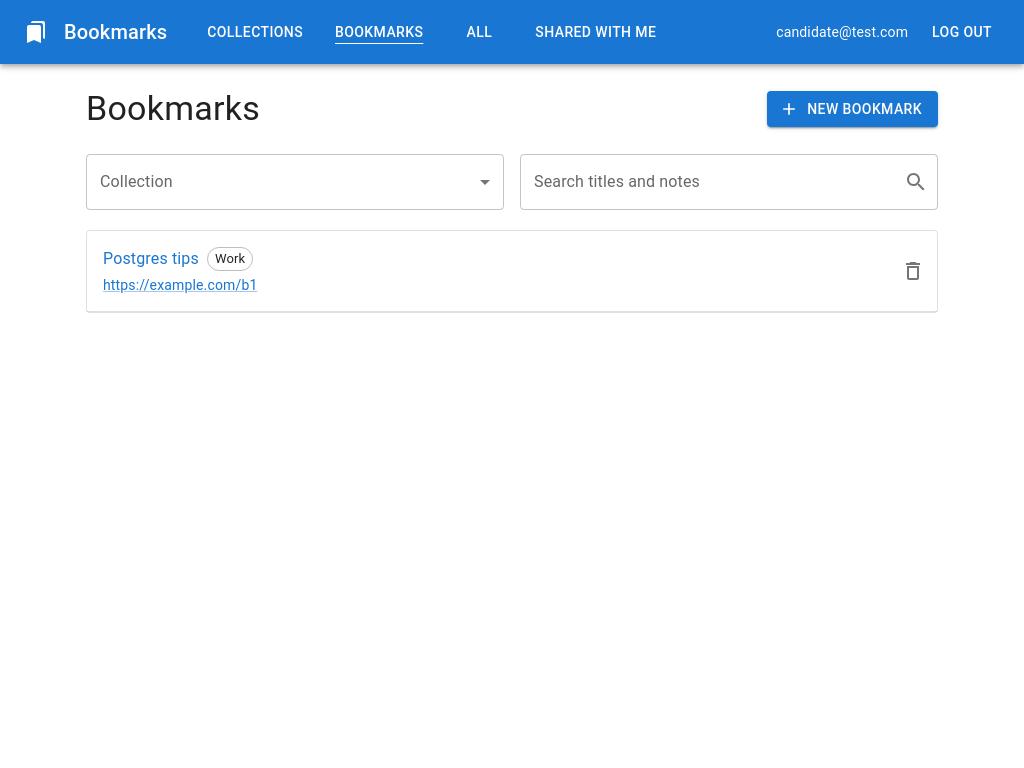
Scenario: /bookmarks › shows API field errors on the form (e.g. unsafe URL rejected by the API)
This screenshot has width=1024, height=768.
Click the button "New bookmark" at (853, 109), box [767,91,938,127]
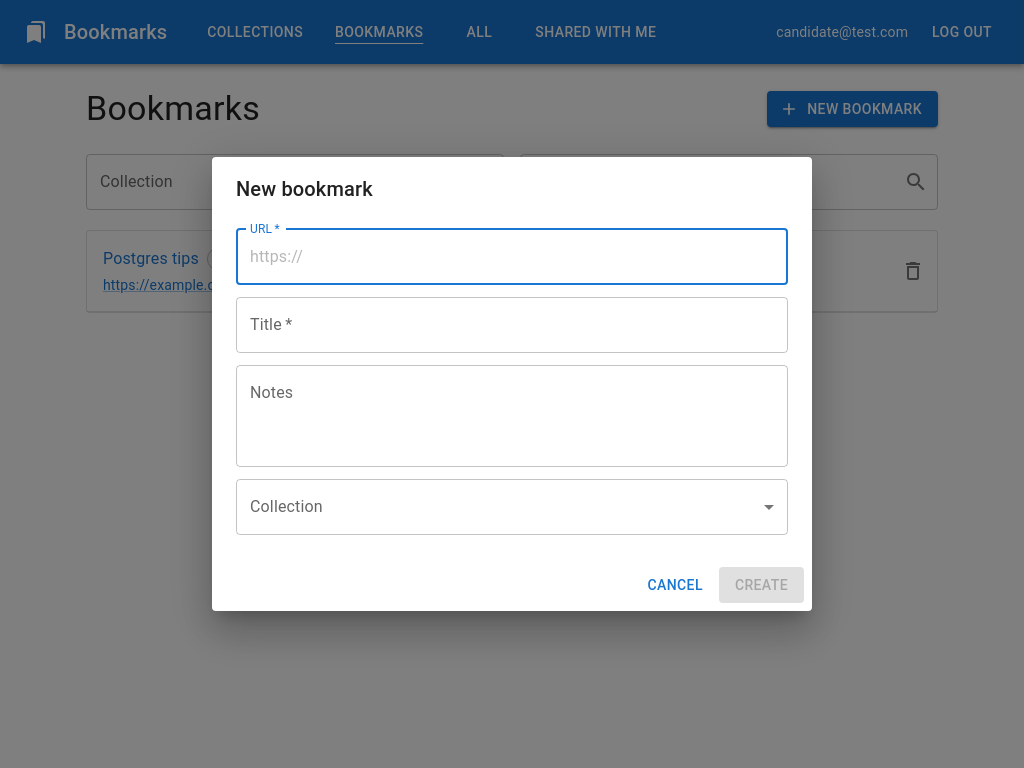
Type "javascript:alert(1)" into the field labelled "URL *" at (512, 257), box [236,229,788,285]
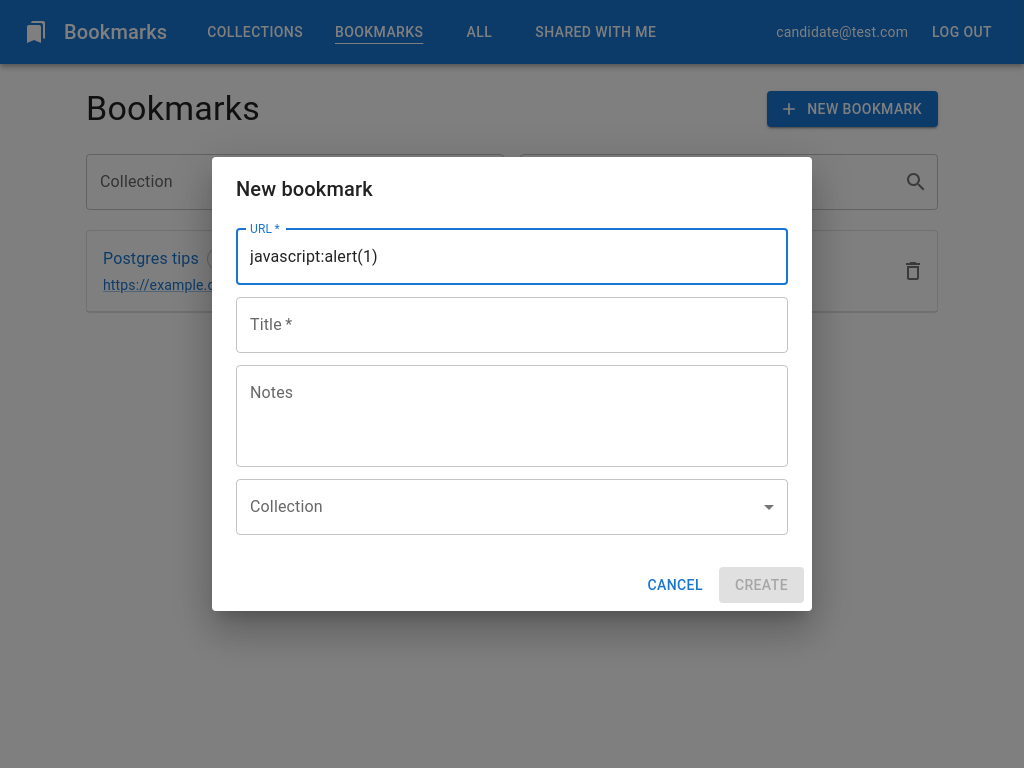
Type "evil" into the field labelled "Title *" at (512, 325), box [236,297,788,353]
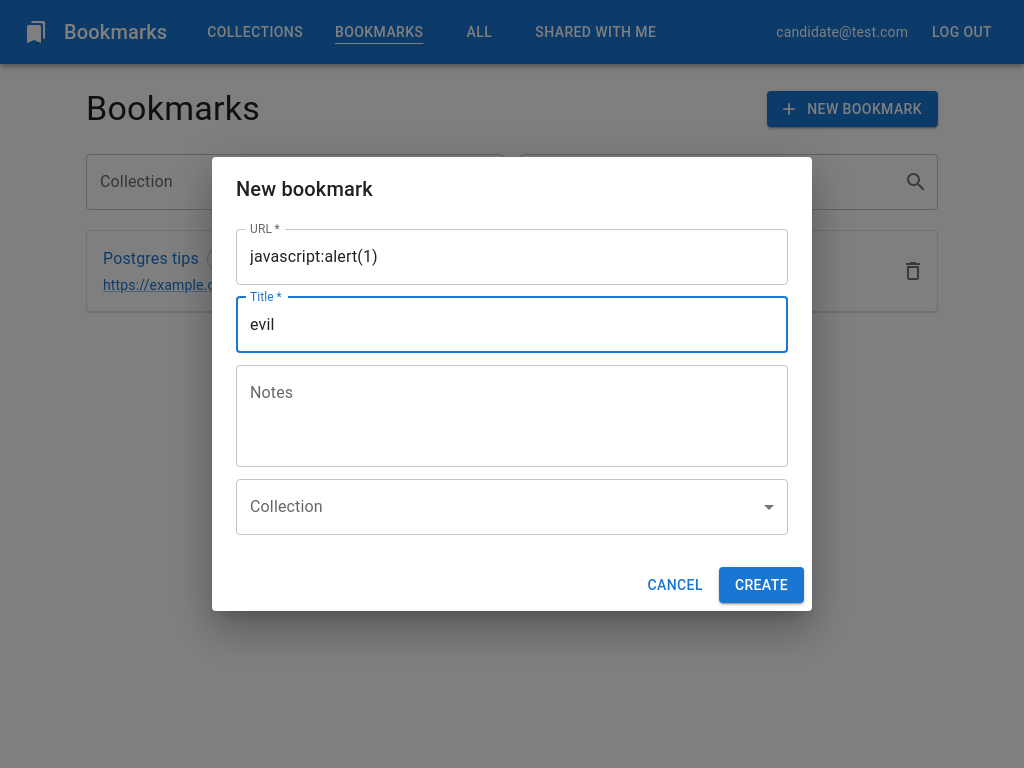
Click the button "Create" at (761, 585), box [719,567,804,603]
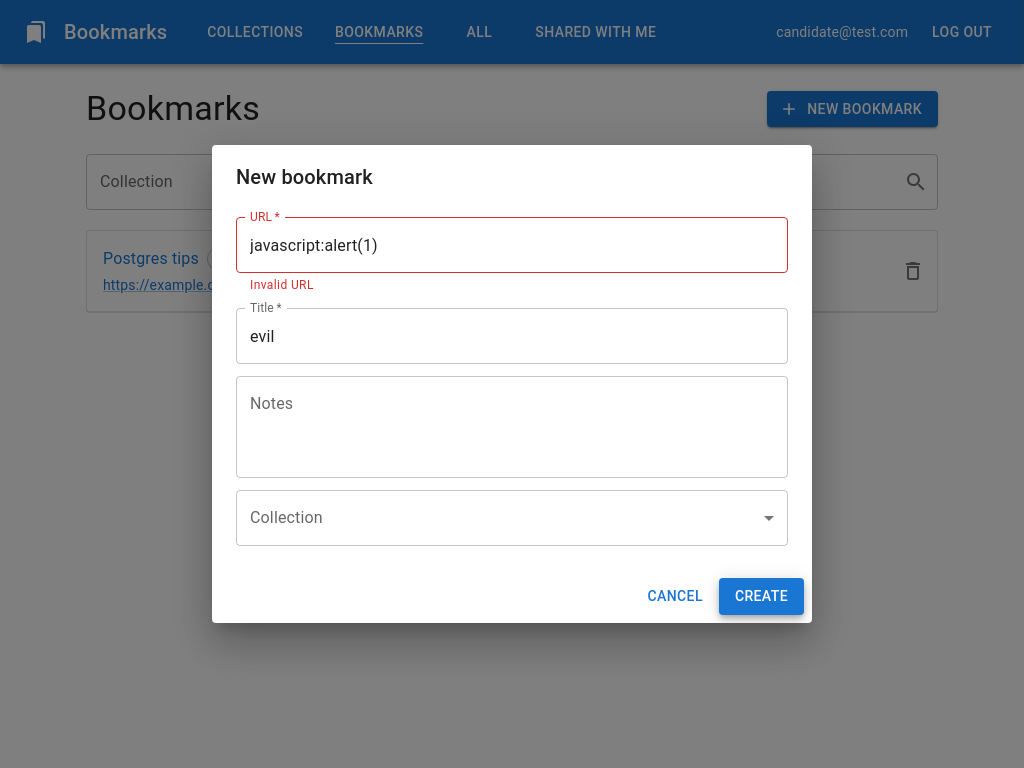
Now the text "Invalid URL" is shown, box [250,278,314,292]
